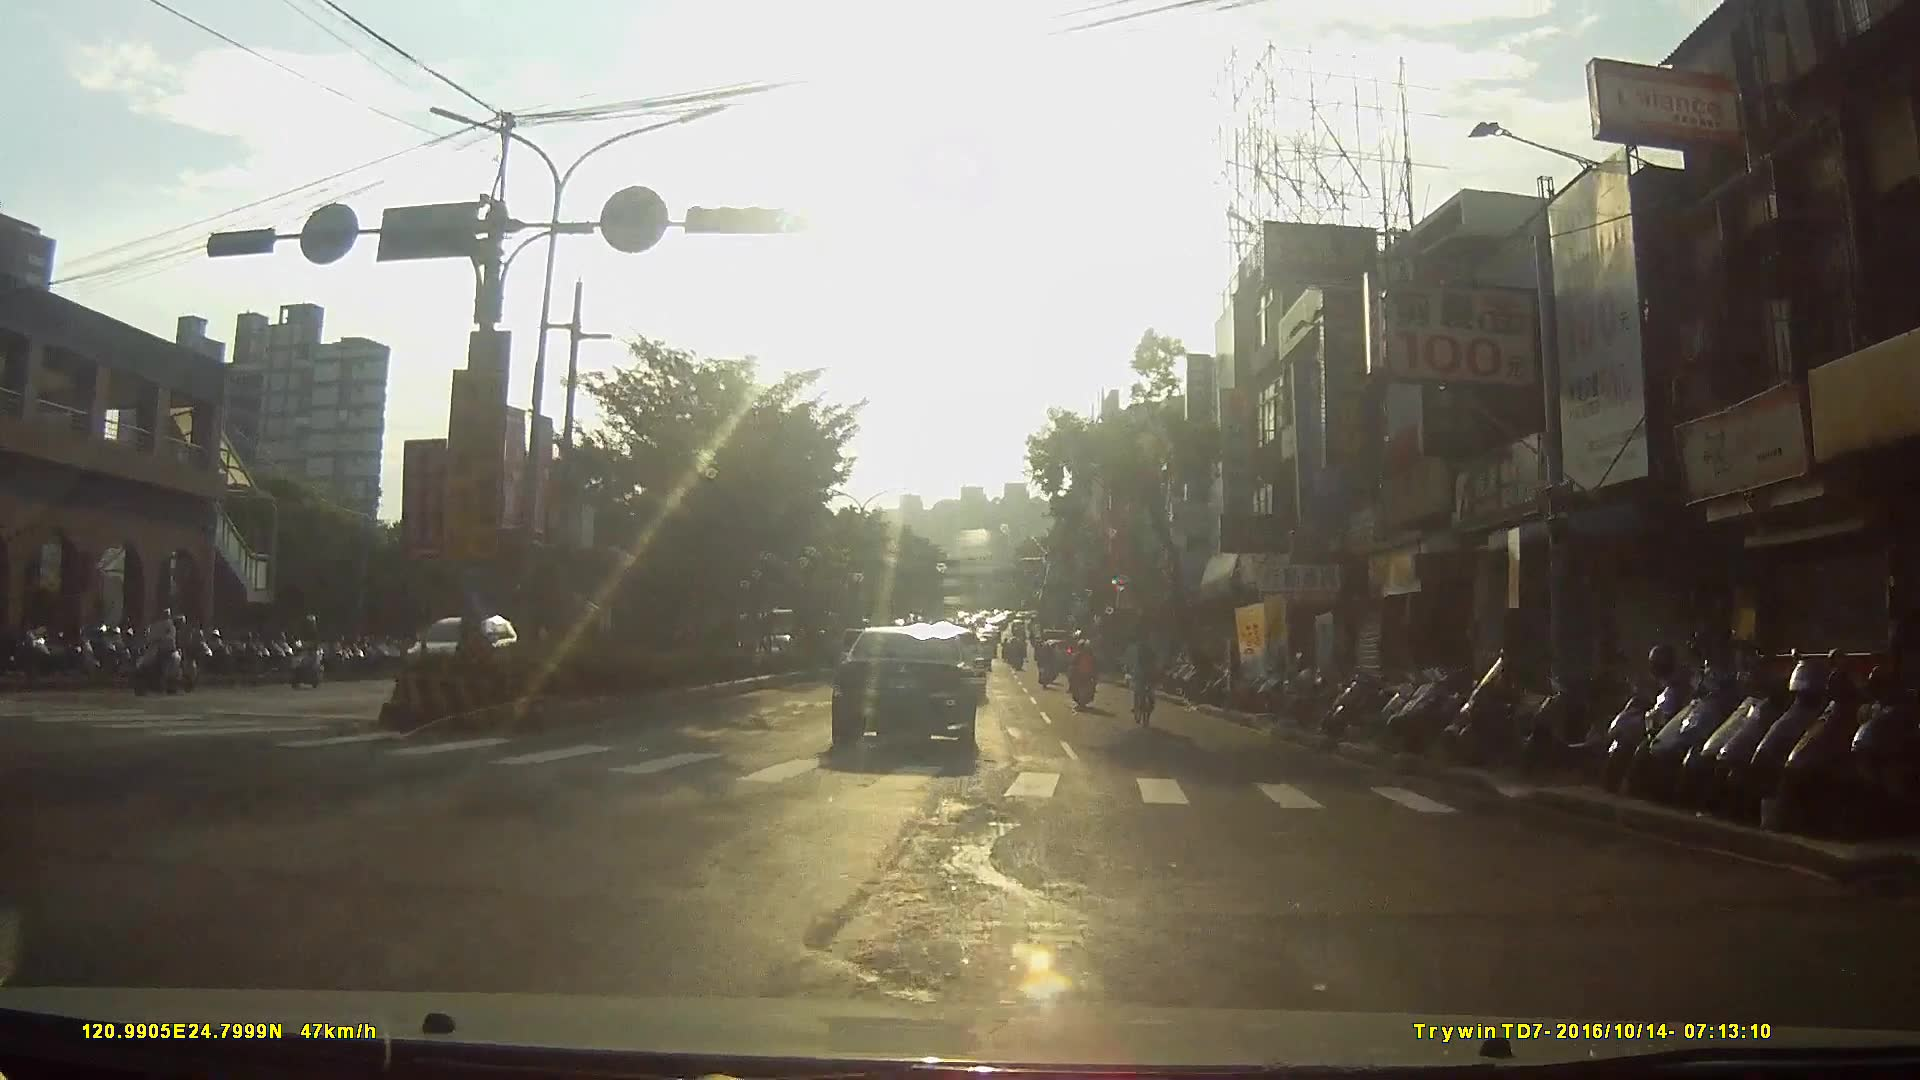rider: (132, 602, 198, 690), (1125, 619, 1165, 718), (291, 613, 328, 689), (1072, 636, 1099, 710), (1034, 636, 1060, 691)
vehicle: (834, 609, 992, 753)
